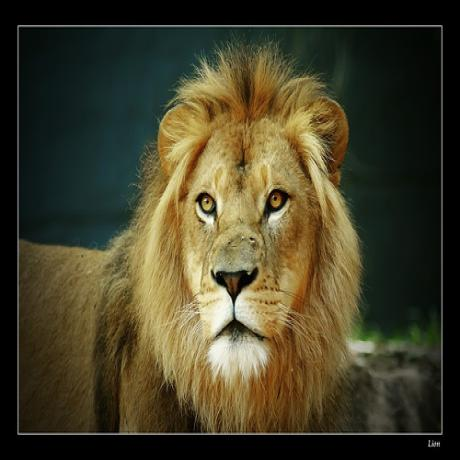Lion: (19, 42, 361, 435)
